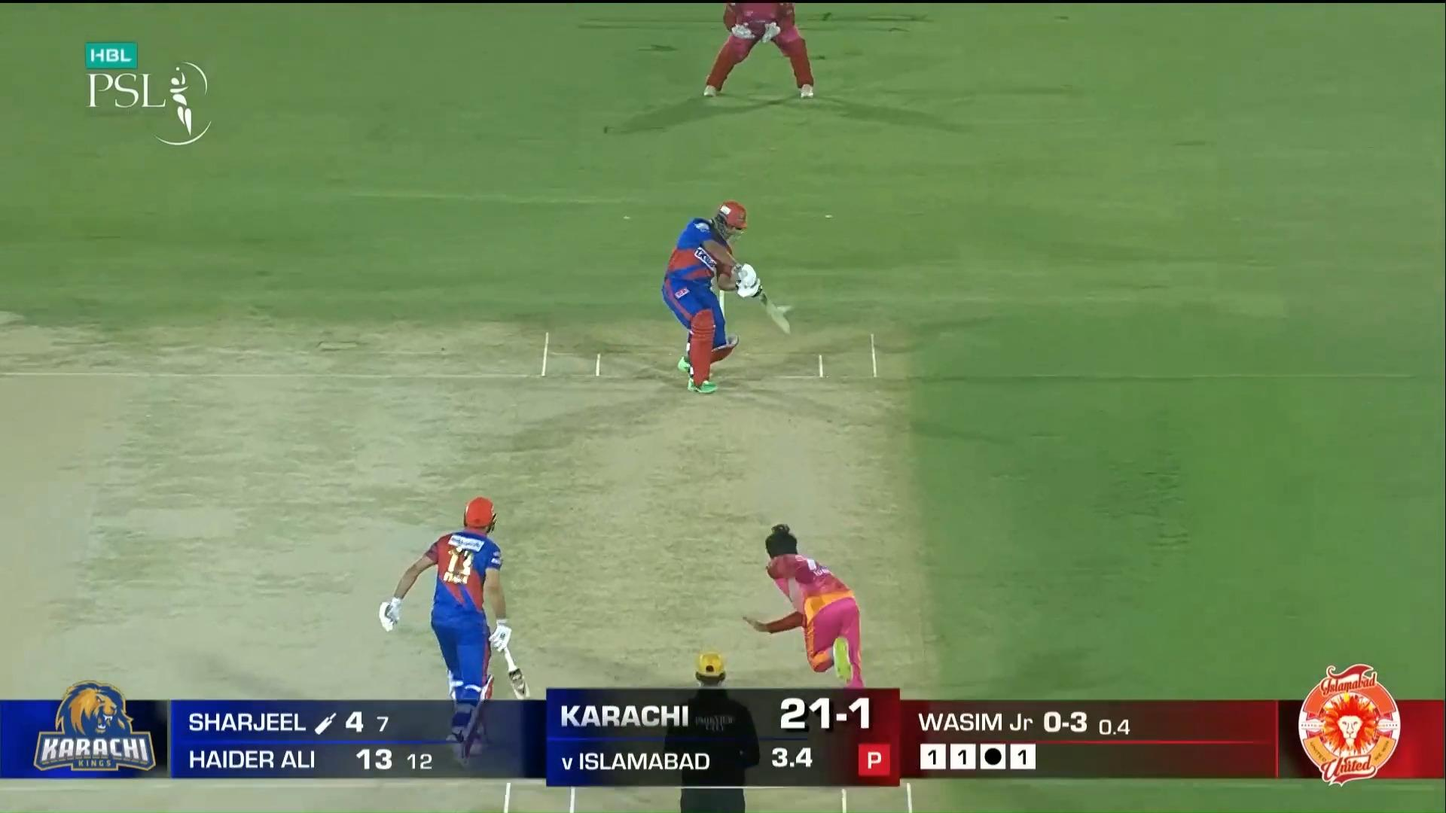batsman: (662, 199, 792, 395)
